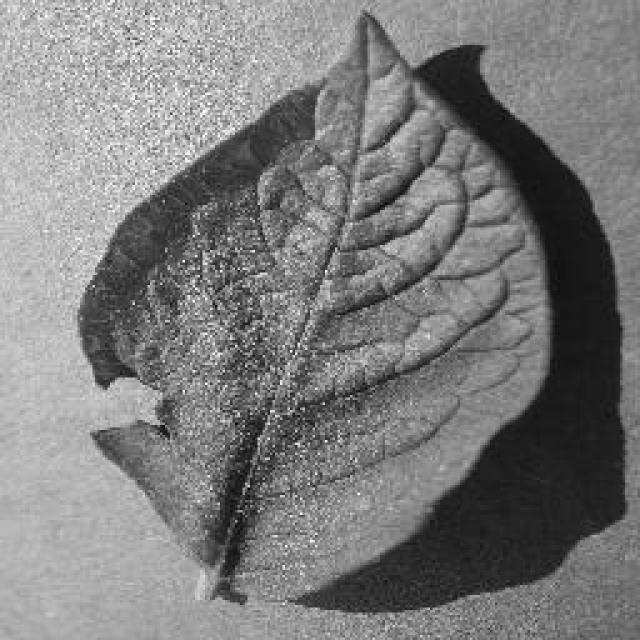Potato: (75, 7, 557, 605)
